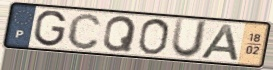A: (198, 23, 241, 63)
C: (66, 12, 104, 51)
G: (32, 9, 68, 48)
O: (136, 17, 172, 56)
Q: (101, 15, 138, 53)
U: (169, 17, 210, 60)
